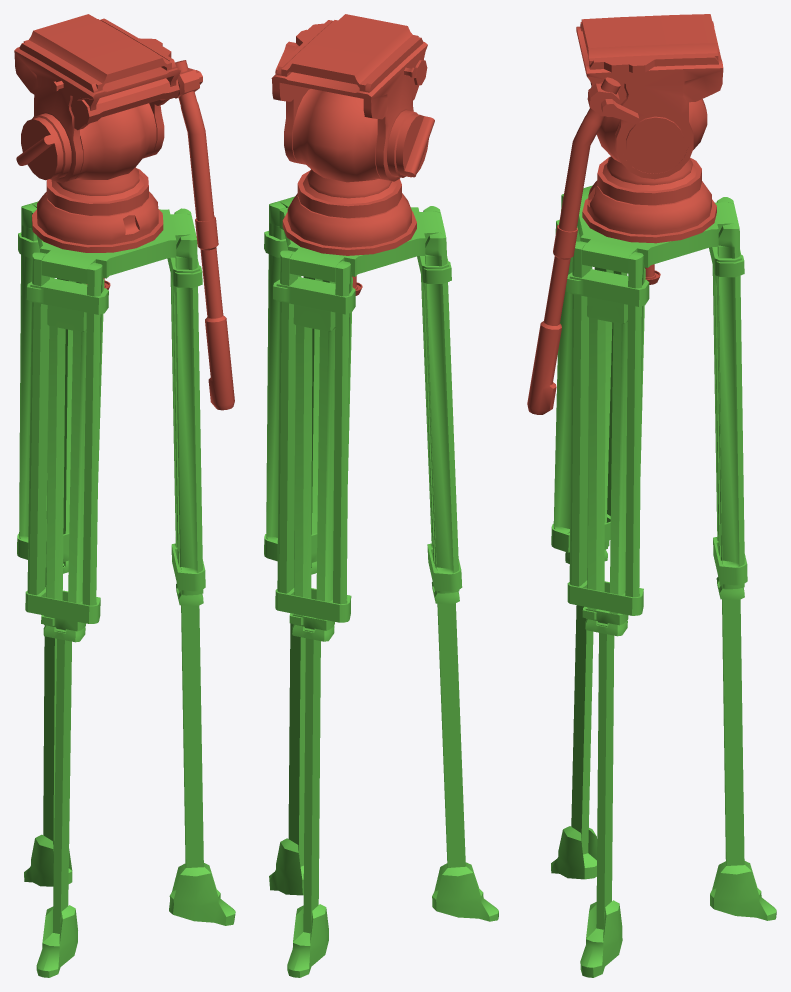
File: Modern High End Tripod Folded.fbx
3 renders of one model, left to right at view 1: azimuth 30°, elevation 25°; view 2: azimuth 150°, elevation 25°; view 3: azimuth 270°, elevation 25°, orthographic.
Parts seen in each view (by area): view 1: Cylinder.002; view 2: Cylinder.002; view 3: Cylinder.002.
Part boxes in pixels (<box>): Cylinder.002: <box>14,14,235,977</box>; Cylinder.002: <box>264,14,498,977</box>; Cylinder.002: <box>527,14,776,977</box>.
Bounding box in the file's own units: 40.66 × 162 × 40.99.
